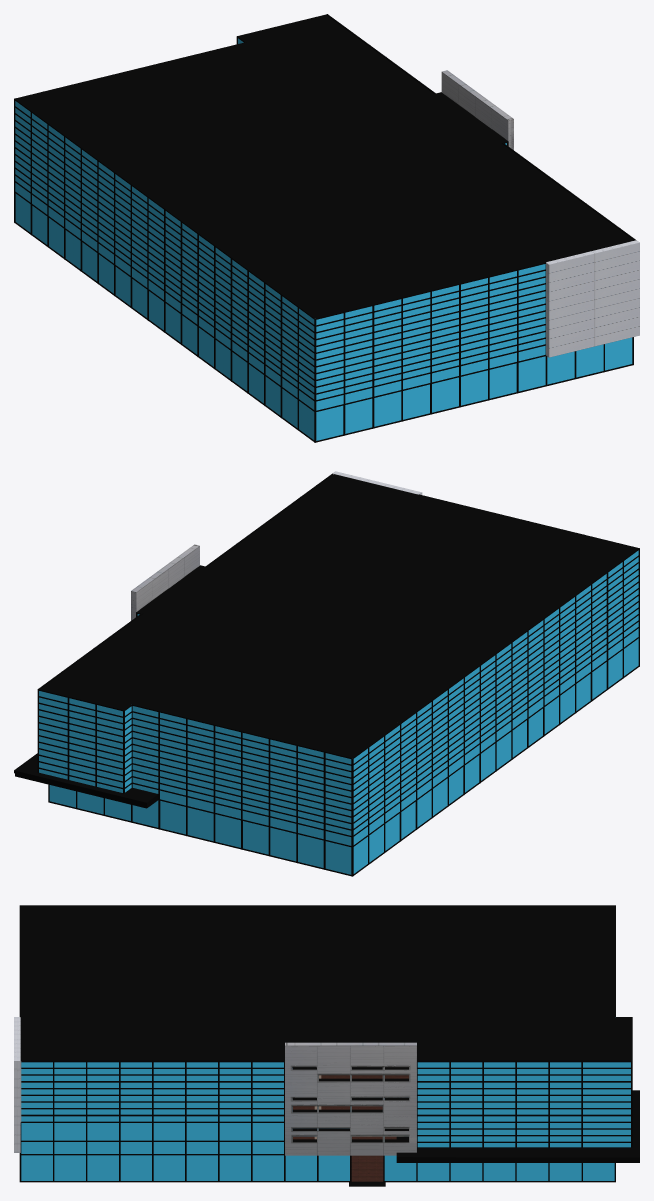
The model's file is Library.glb.
3 views of the same model, one above another, from view 1: azimuth 30°, elevation 25°; view 2: azimuth 150°, elevation 25°; view 3: azimuth 270°, elevation 25° (orthographic). The views are drawn at different scales.
Parts seen in each view (by area): view 1: Library; view 2: Library; view 3: Library.
Part boxes in pixels (<box>): Library: <box>14,14,639,442</box>; Library: <box>14,471,639,876</box>; Library: <box>14,905,639,1186</box>.
Bounding box in the file's own units: 24.12 × 9.73 × 38.51.
11 materials, 11 textured.
